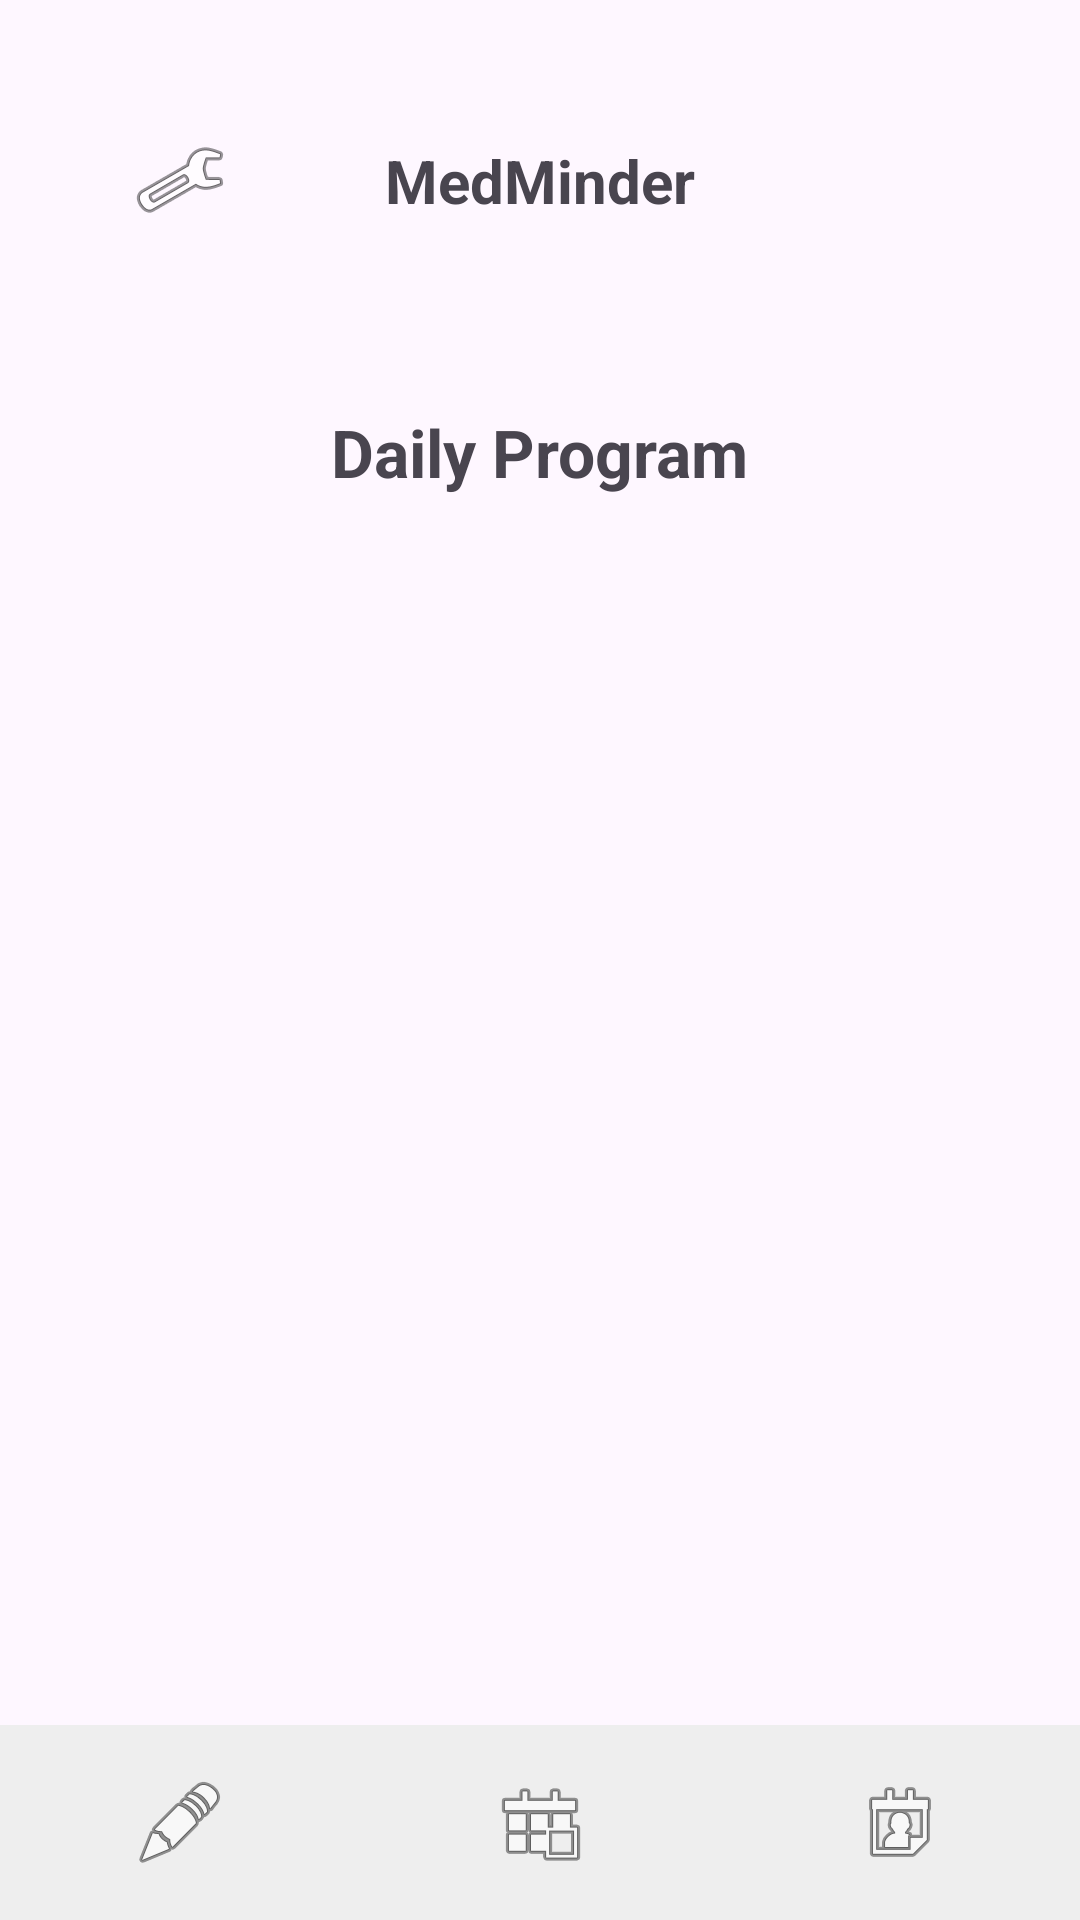

Where to tap for icons on this 1080 x 1920 app screen, as (x,y):
edit: (179,1822)
preferences: (180,180)
